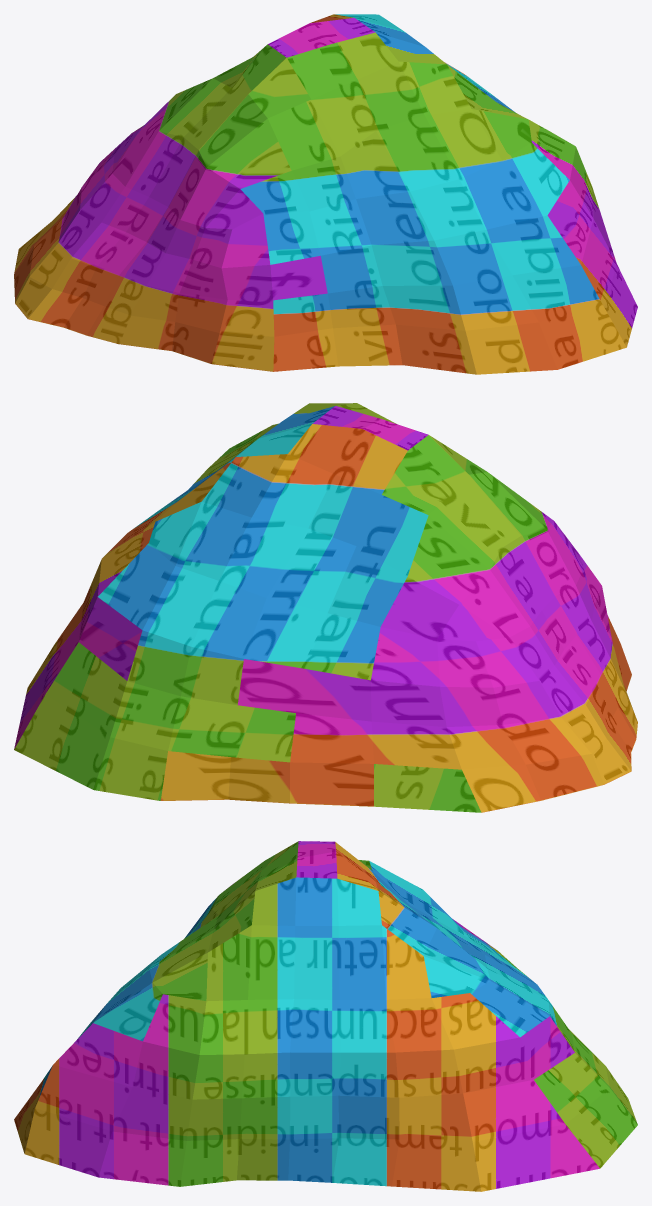
The model's file is SM_Mountain_5.fbx.
The picture shows the model from 3 angles, top to bottom: view 1: azimuth 30°, elevation 25°; view 2: azimuth 150°, elevation 25°; view 3: azimuth 270°, elevation 25°; orthographic projection. The views are drawn at different scales.
Visible parts, largest first — view 1: SM_Mountain_5; view 2: SM_Mountain_5; view 3: SM_Mountain_5.
Boxes of the visible parts, <box> form: SM_Mountain_5: <box>14,14,637,374</box>; SM_Mountain_5: <box>14,403,637,812</box>; SM_Mountain_5: <box>14,841,637,1191</box>.
Bounding box in the file's own units: 144 × 66.36 × 162.
1 material, 1 textured.
